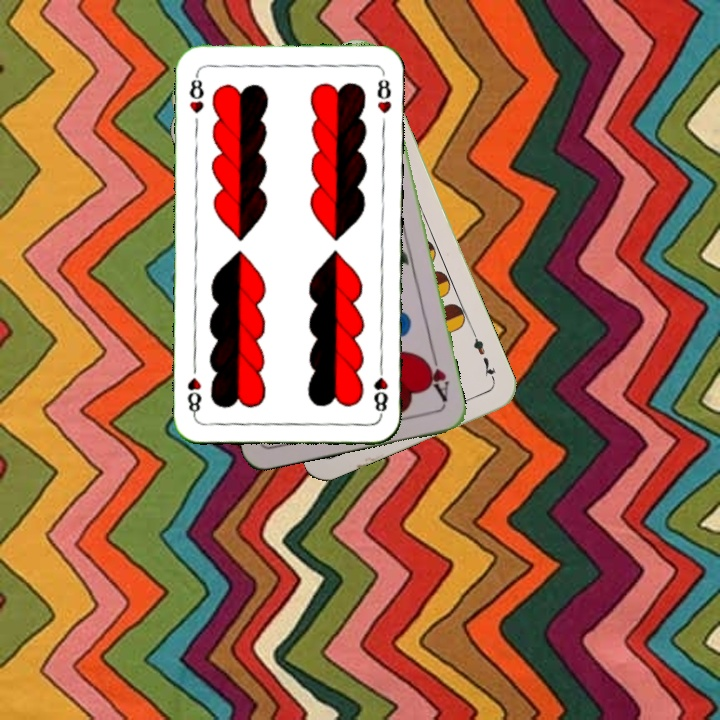E7: (468, 328, 498, 384)
H8: (370, 359, 391, 418), (185, 68, 207, 116)
HA: (419, 347, 453, 405)
